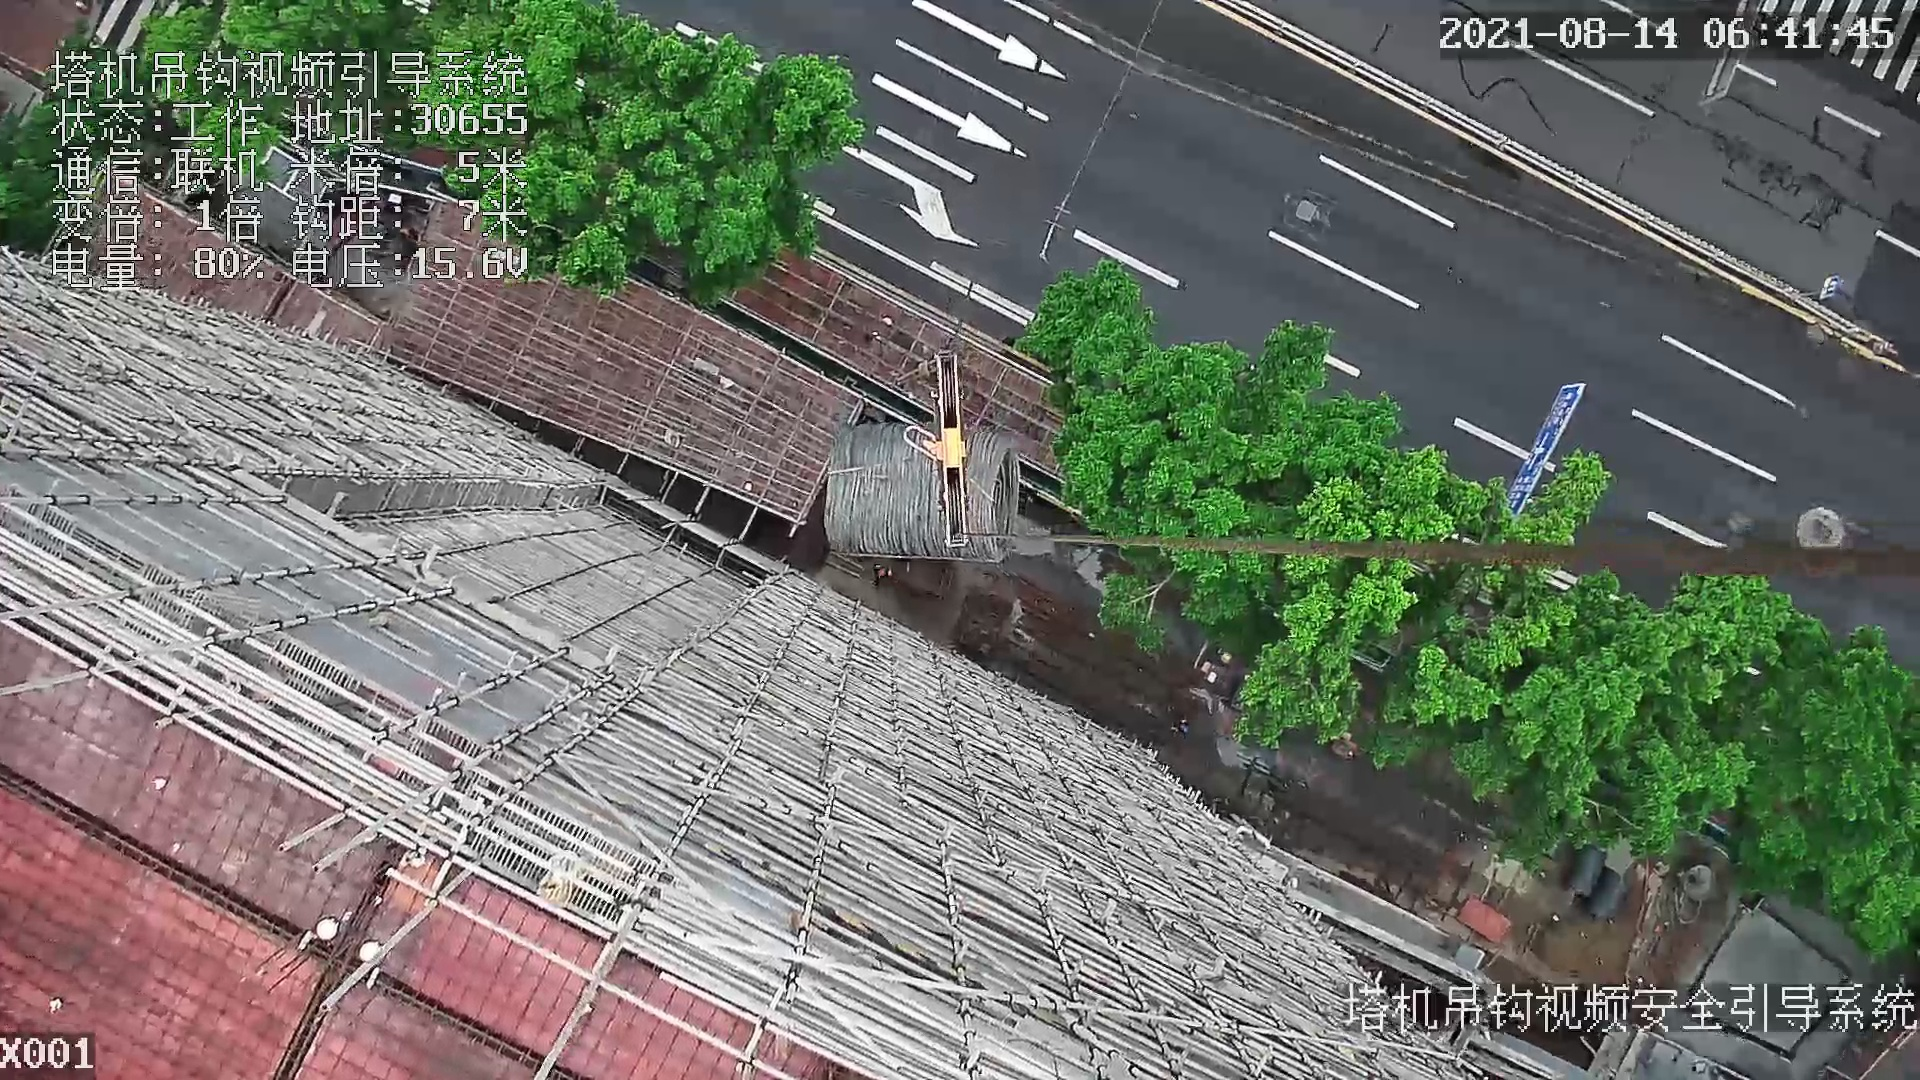hook: (897, 346, 974, 551)
person: (872, 564, 892, 589)
